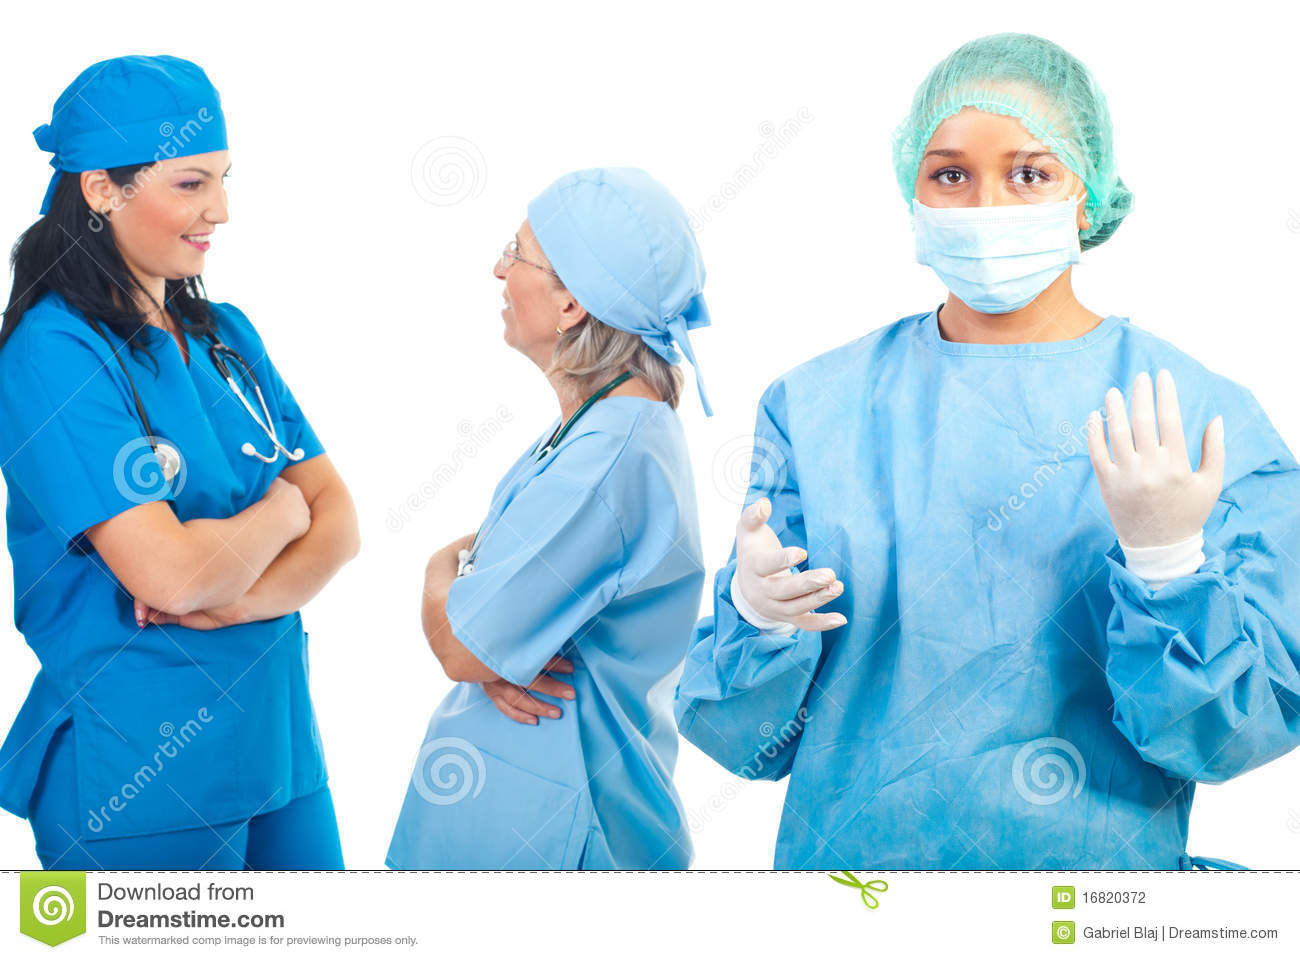mask: (906, 197, 1085, 317)
